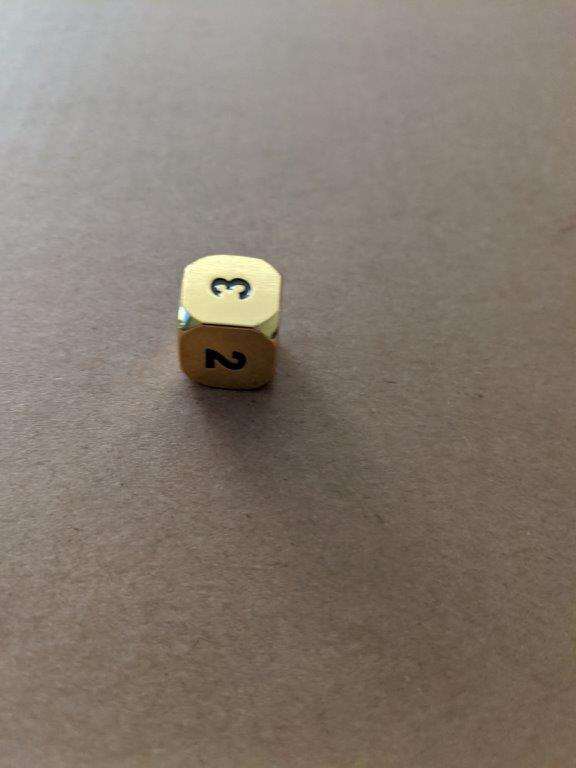d6-3: (174, 251, 283, 397)
